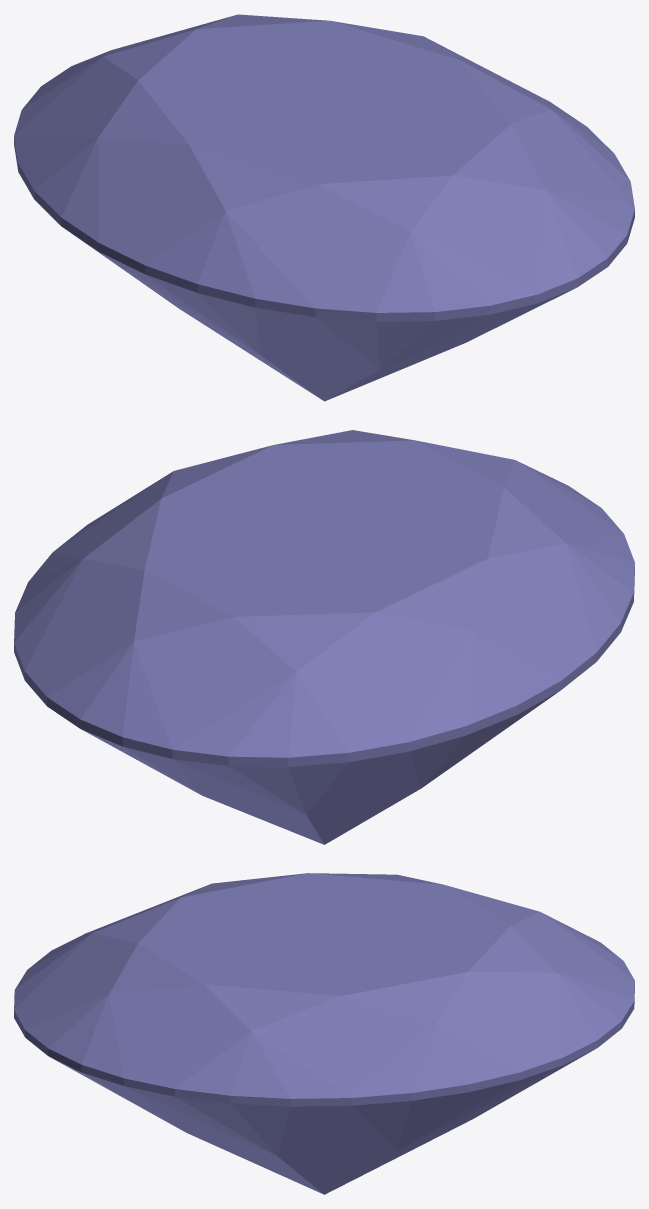
The model's file is stone-iolite.glb.
The picture shows the model from 3 angles, top to bottom: view 1: azimuth 30°, elevation 25°; view 2: azimuth 150°, elevation 25°; view 3: azimuth 270°, elevation 25°; orthographic projection. The views are drawn at different scales.
Visible parts, largest first — view 1: Gemstone Iolite; view 2: Gemstone Iolite; view 3: Gemstone Iolite.
Part boxes in pixels (x1,y1,x2,y2): Gemstone Iolite: [14, 14, 634, 401]; Gemstone Iolite: [14, 430, 634, 844]; Gemstone Iolite: [14, 873, 634, 1194].
Bounding box in the file's own units: 2.01 × 1.18 × 2.54.
